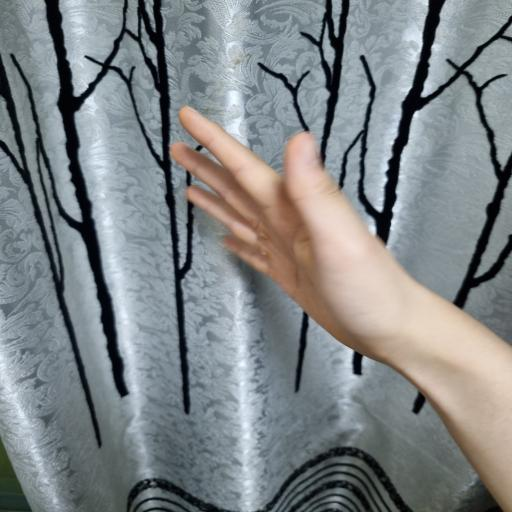Paper: (168, 105, 444, 367)
